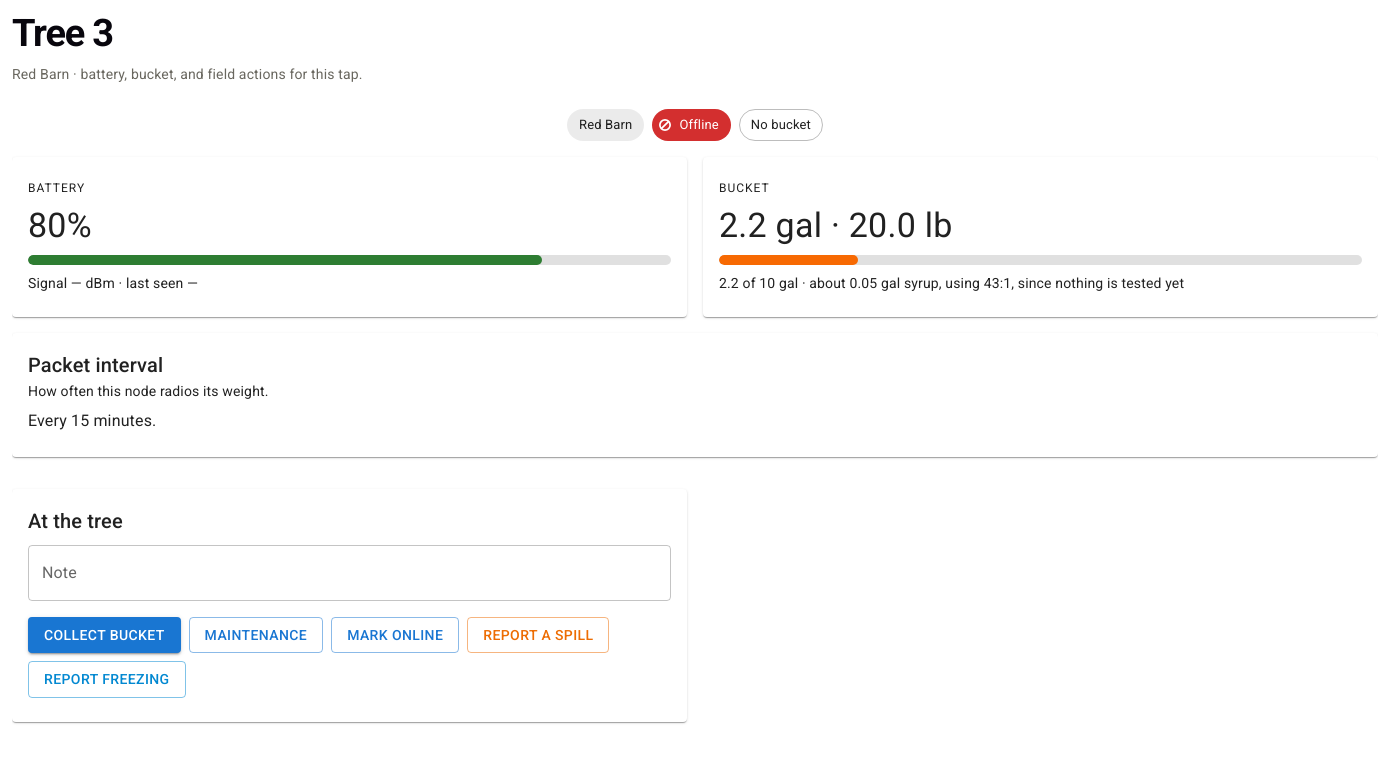
tree page field actions › confirms a collected bucket
Expected: the heading "Tree 3" is shown, [12,11,113,55]
Click the button "Collect bucket": (104, 635) [28,617,181,653]
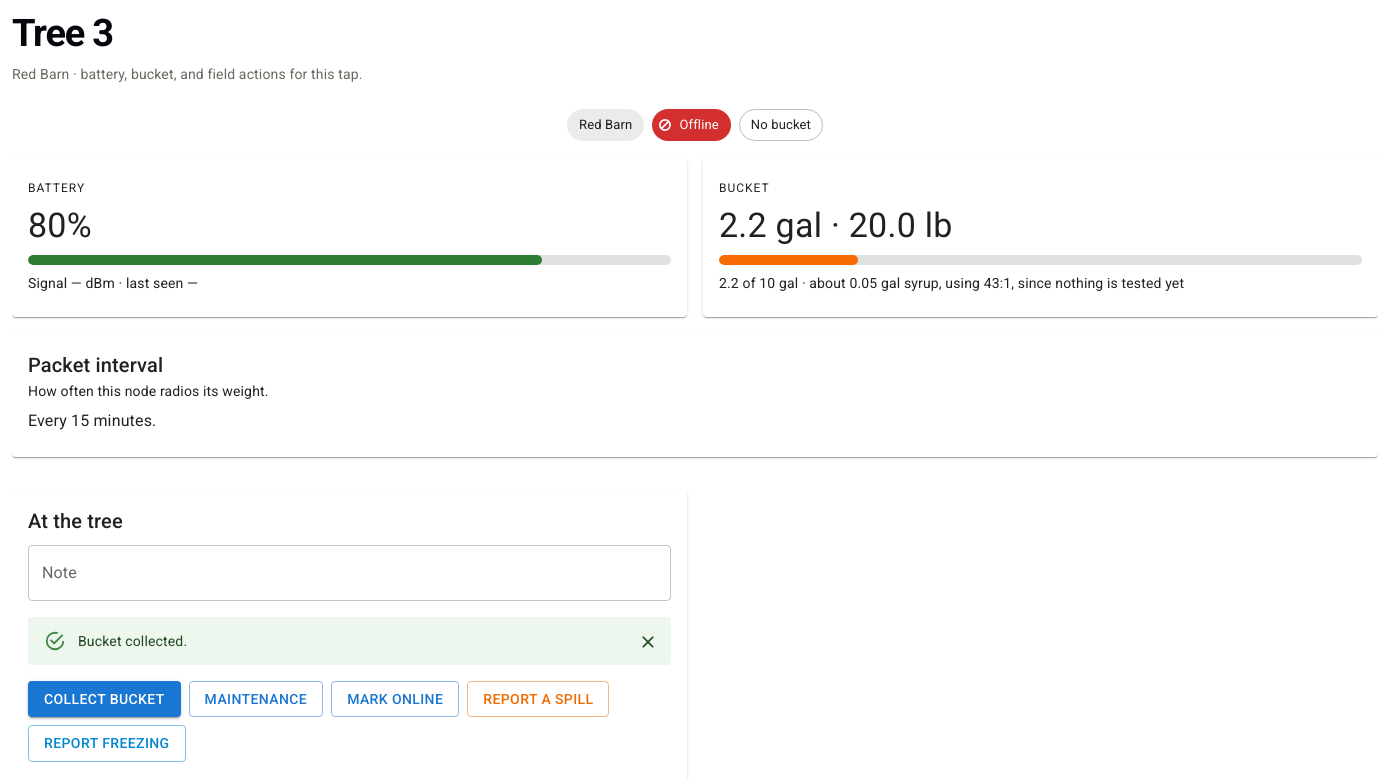
Now the text "Bucket collected." is shown, box [78,633,187,649]
